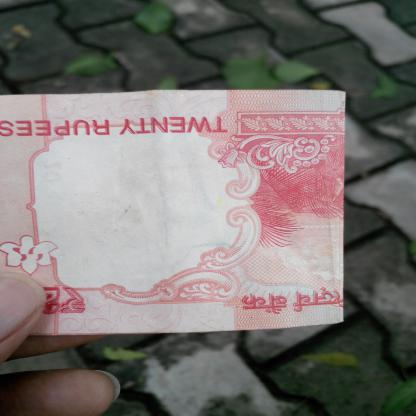Old20Back: (0, 94, 342, 326)
